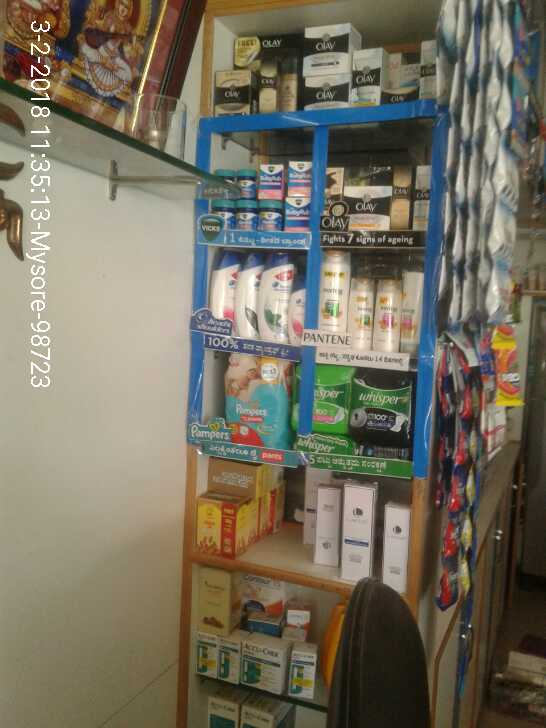beauty: (315, 248, 347, 345), (259, 250, 289, 340), (375, 64, 440, 103), (208, 253, 240, 330), (345, 182, 390, 235), (302, 22, 348, 72), (232, 26, 295, 58), (349, 47, 383, 106), (346, 271, 372, 345), (321, 164, 346, 236), (300, 73, 349, 108), (214, 70, 250, 117), (379, 272, 399, 352), (239, 248, 256, 339), (413, 162, 431, 235), (389, 175, 409, 232), (254, 56, 272, 112), (289, 277, 302, 346)
pharmacy: (222, 354, 291, 449), (293, 364, 355, 432), (351, 376, 411, 435), (256, 162, 284, 198), (286, 161, 311, 197), (260, 199, 283, 232), (284, 199, 307, 231), (211, 201, 235, 231), (235, 167, 255, 198), (236, 200, 255, 228)
